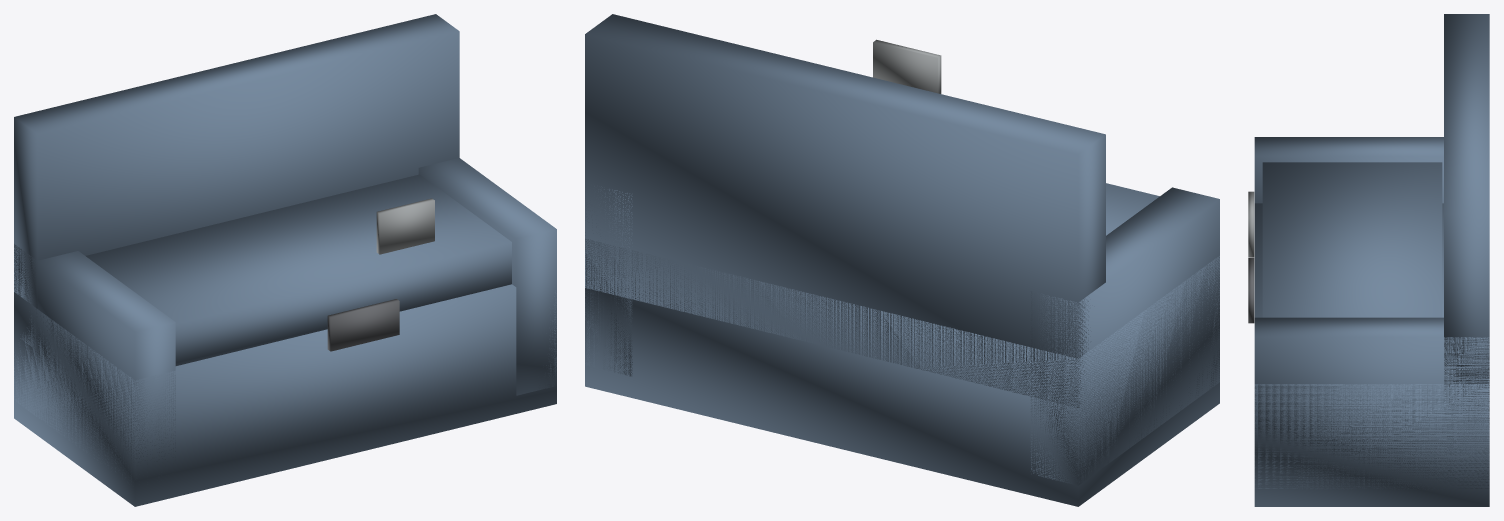
The model's file is loveseat__weathered.glb.
The picture shows the model from 3 angles, left to right: view 1: azimuth 30°, elevation 25°; view 2: azimuth 150°, elevation 25°; view 3: azimuth 270°, elevation 25°; orthographic projection. The views are drawn at different scales.
Visible parts, largest first — view 1: world; view 2: world; view 3: world.
Part boxes in pixels (x1,y1,x2,y2): world: [14, 14, 556, 506]; world: [585, 14, 1219, 506]; world: [1248, 14, 1489, 506].
Bounding box in the file's own units: 1.45 × 1.02 × 0.7391.
